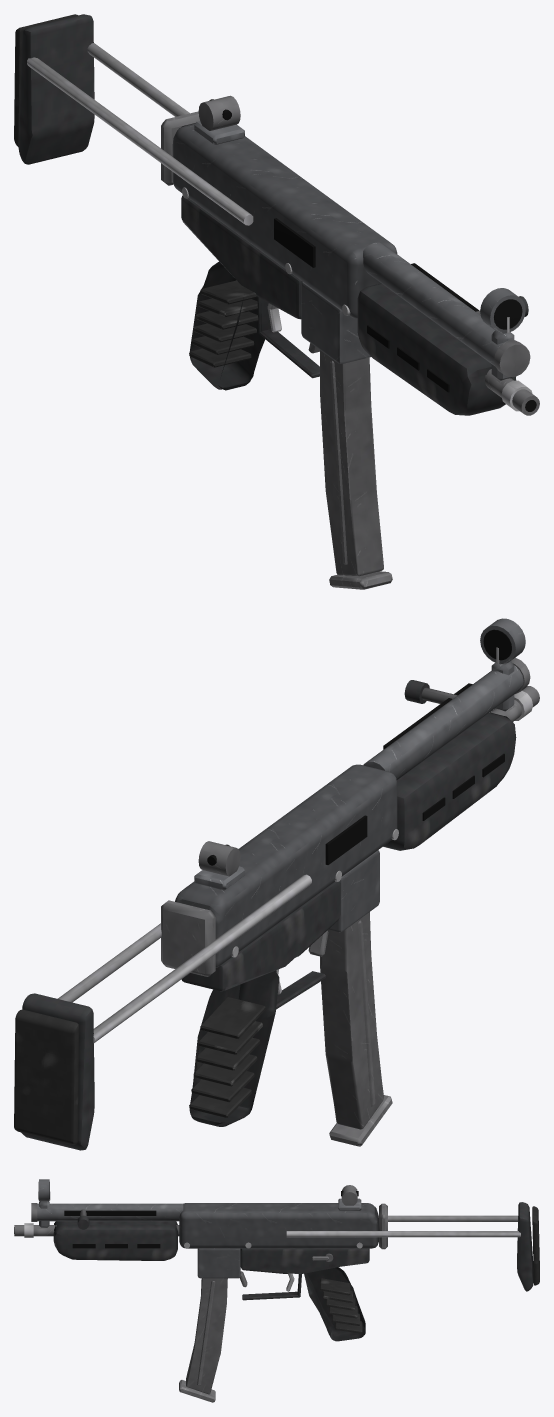
File: hornet.glb
3 views of the same model, one above another, from view 1: azimuth 30°, elevation 25°; view 2: azimuth 150°, elevation 25°; view 3: azimuth 270°, elevation 25° (orthographic). The views are drawn at different scales.
Visible parts, largest first — view 1: body, mag; view 2: body, mag; view 3: body, mag.
Part boxes in pixels (left/top/right/bottom): body: left=14, top=14, right=539, bottom=415; mag: left=320, top=350, right=392, bottom=589; body: left=14, top=618, right=539, bottom=1150; mag: left=320, top=912, right=392, bottom=1146; body: left=14, top=1179, right=539, bottom=1341; mag: left=179, top=1278, right=227, bottom=1402.
Size of the model in its own units: 0.0735 by 0.3149 by 0.6854.
6 materials, 5 textured.
